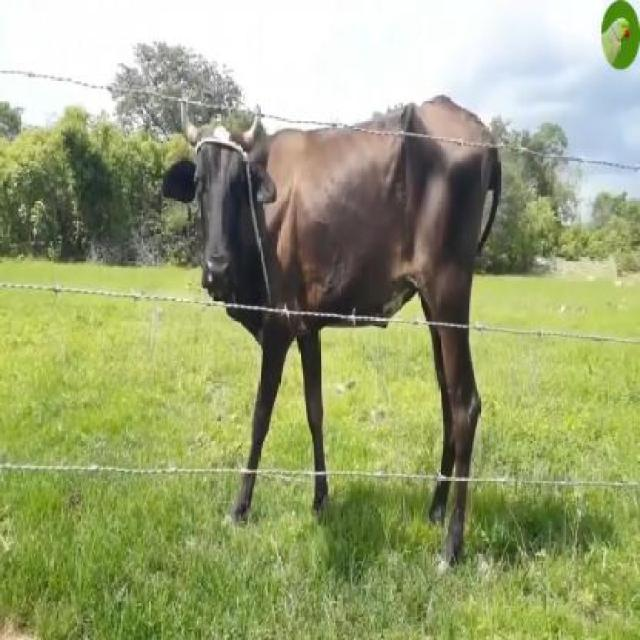Cow: (160, 92, 503, 566)
